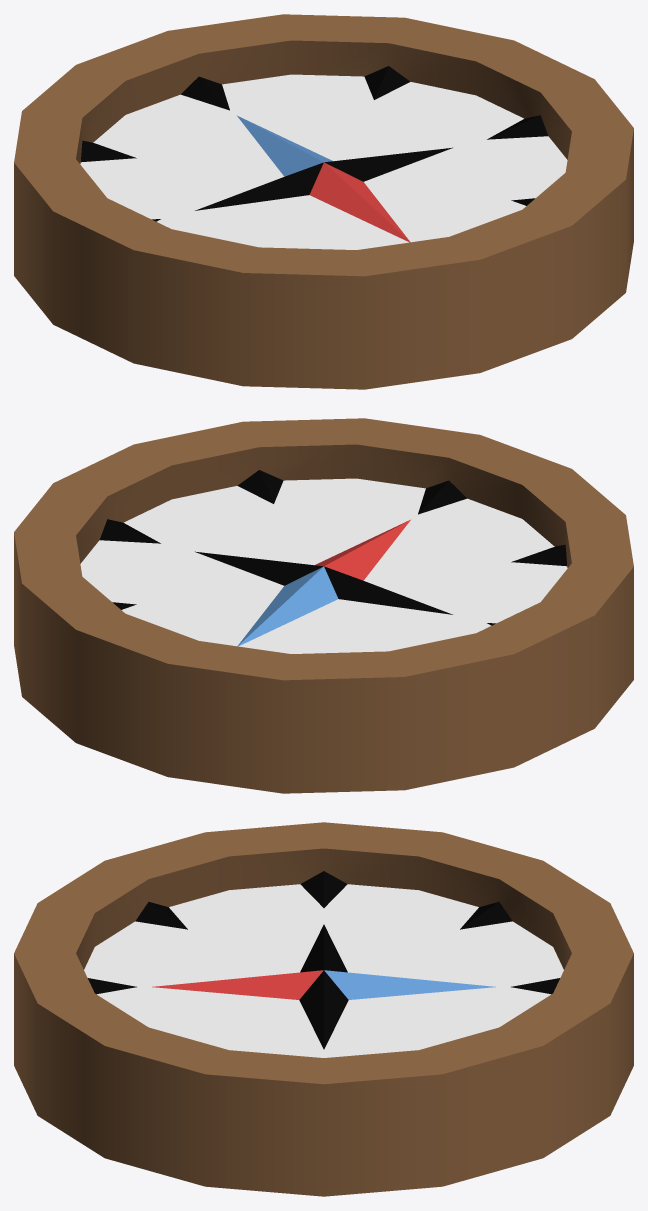
Rendered from Compass.glb.
3 views of the same model, one above another, from view 1: azimuth 30°, elevation 25°; view 2: azimuth 150°, elevation 25°; view 3: azimuth 270°, elevation 25° (orthographic).
Visible parts, largest first — view 1: Cylinder; view 2: Cylinder; view 3: Cylinder.
Boxes of the visible parts, x1,y1,x2,y2 form: Cylinder: (14,14,633,389); Cylinder: (14,418,633,793); Cylinder: (14,822,633,1196).
Bounding box in the file's own units: 0.1 × 0.02 × 0.1.
1 material, 1 textured.
